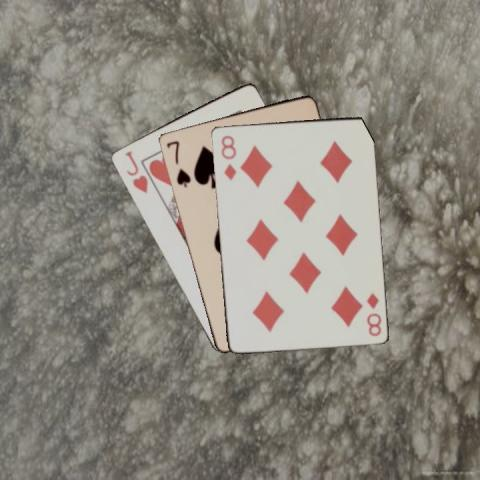7s: (163, 137, 192, 189)
8d: (363, 289, 383, 338), (218, 132, 237, 181)
Jh: (122, 148, 149, 195)
